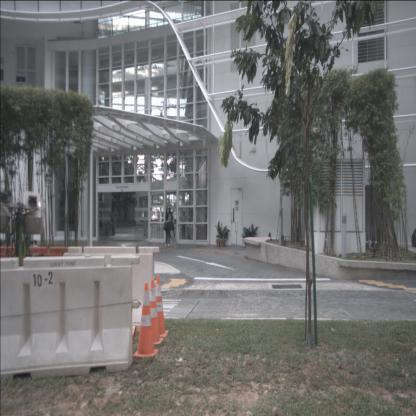human-pedestrian-adult: (164, 207, 171, 247), (181, 211, 187, 239), (169, 212, 175, 237)
movable_object-barrier: (0, 254, 140, 381), (63, 246, 160, 332)
movable_object-trafficcone: (133, 283, 158, 358), (149, 279, 164, 345), (156, 275, 168, 338)
